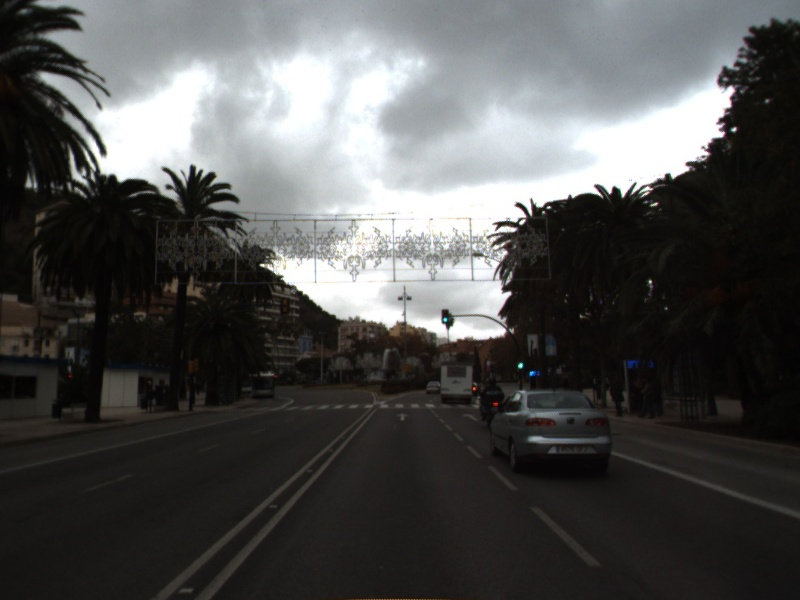STRAIGHT: (460, 411, 482, 423), (393, 411, 411, 422)
